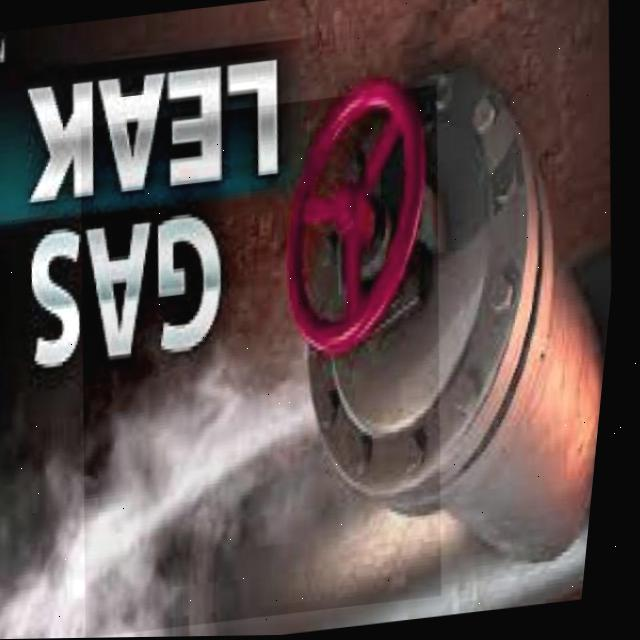corrosion: (80, 85, 441, 637)
